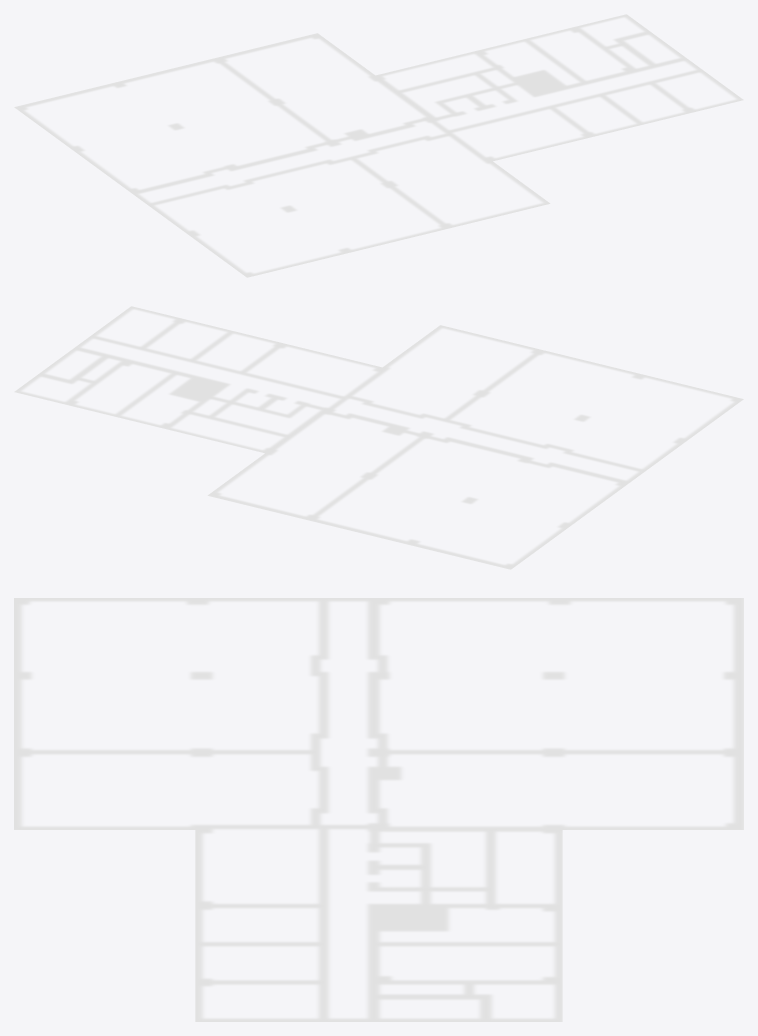
File: 2f阴影.glb
3 renders of one model, top to bottom at view 1: azimuth 30°, elevation 25°; view 2: azimuth 150°, elevation 25°; view 3: azimuth 270°, elevation 25°, orthographic. The views are drawn at different scales.
Parts seen in each view (by area): view 1: 2f阴影; view 2: 2f阴影; view 3: 2f阴影.
Part boxes in pixels (box(x1,y1,x2,y2)): 2f阴影: box(14, 14, 743, 277); 2f阴影: box(14, 306, 743, 569); 2f阴影: box(14, 598, 743, 1021).
Bounding box in the file's own units: 5351 × 0.00131 × 3894.
Materials: 1 (1 with a texture image).
